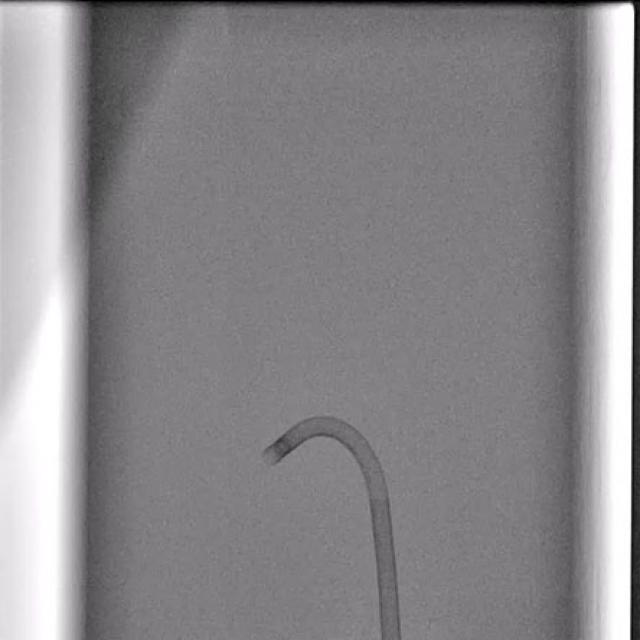bend: (367, 484, 389, 501)
entry: (382, 635, 400, 640)
marker: (272, 437, 292, 457)
tip: (260, 451, 275, 466)
